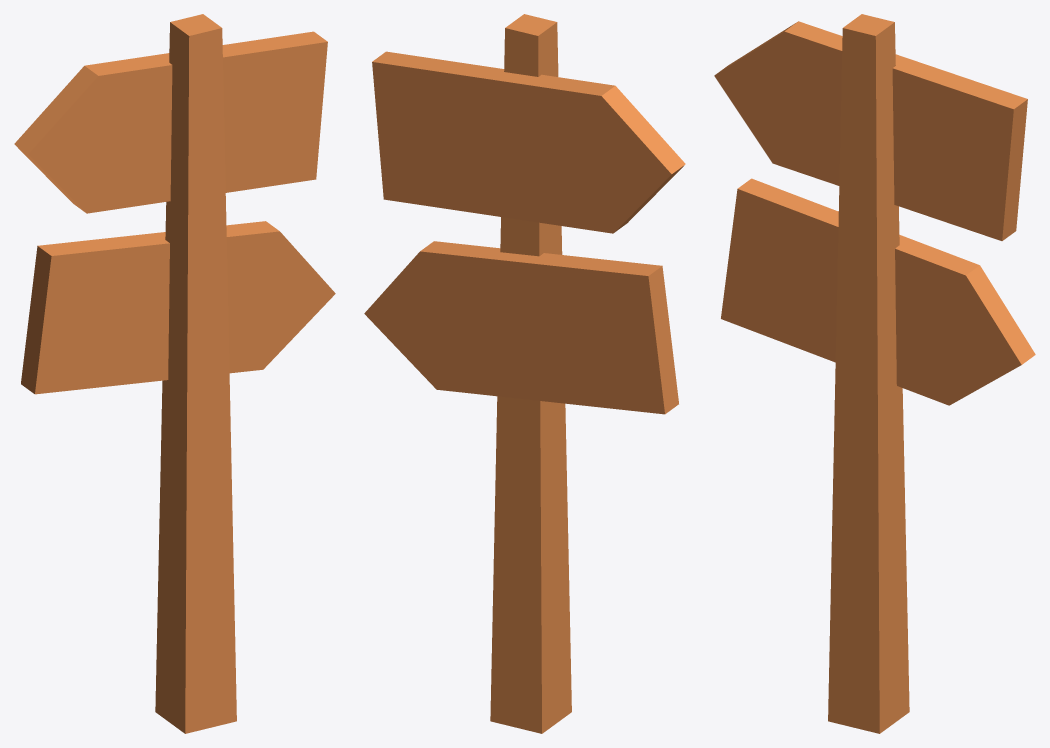
The model's file is signpost.fbx.
3 renders of one model, left to right at view 1: azimuth 30°, elevation 25°; view 2: azimuth 150°, elevation 25°; view 3: azimuth 330°, elevation 25°, orthographic.
Parts seen in each view (by area): view 1: signpost; view 2: signpost; view 3: signpost.
Part boxes in pixels (x1,y1,x2,y2): signpost: (14, 14, 335, 733); signpost: (364, 14, 685, 733); signpost: (714, 14, 1035, 733).
Size of the model in its own units: 2.14 by 4.6 by 0.4298.
